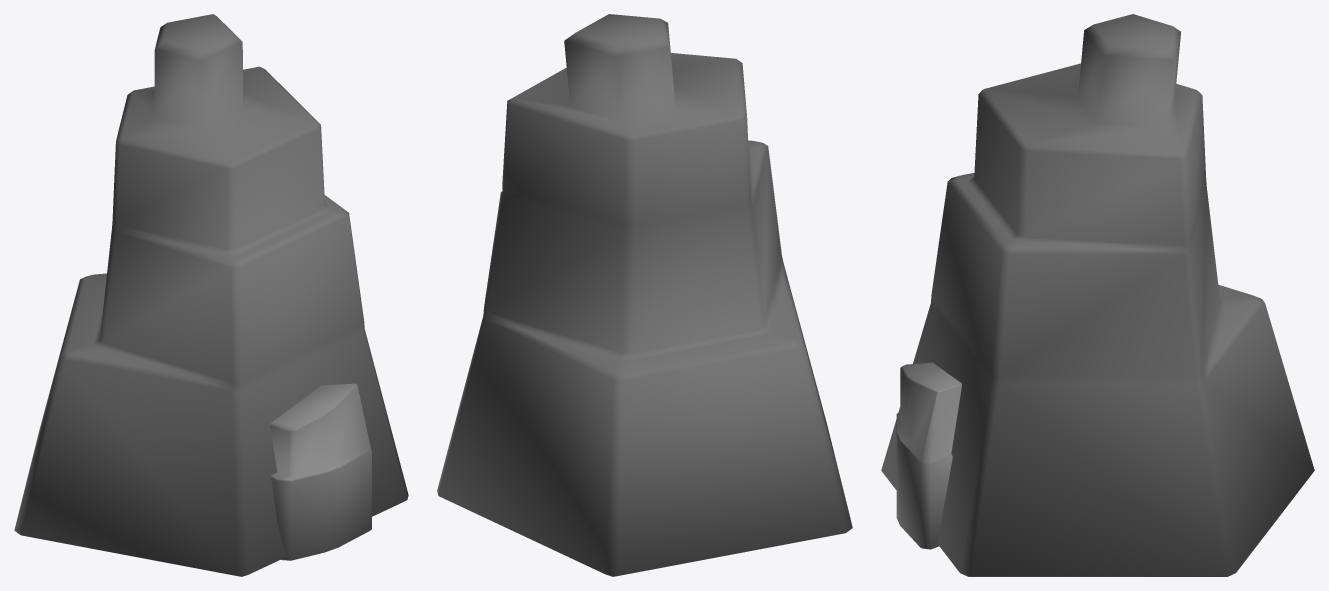
The model's file is layeredRock-04_col.fbx.
3 views of the same model, side by side, from view 1: azimuth 30°, elevation 25°; view 2: azimuth 150°, elevation 25°; view 3: azimuth 270°, elevation 25° (orthographic). The views are drawn at different scales.
Parts seen in each view (by area): view 1: layeredRock-04.col; view 2: layeredRock-04.col; view 3: layeredRock-04.col.
Boxes of the visible parts, box(x1,y1,x2,y2) form: layeredRock-04.col: box(14, 14, 408, 576); layeredRock-04.col: box(437, 14, 852, 576); layeredRock-04.col: box(881, 14, 1314, 576).
Bounding box in the file's own units: 0.324 × 0.414 × 0.3407.
Materials: 1 (1 with a texture image).
